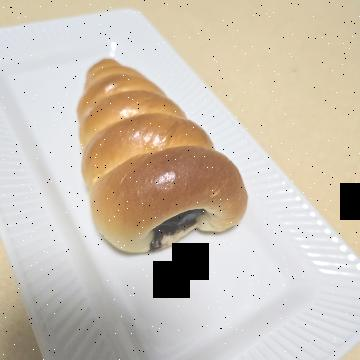cream horn: (30, 92, 281, 294)
